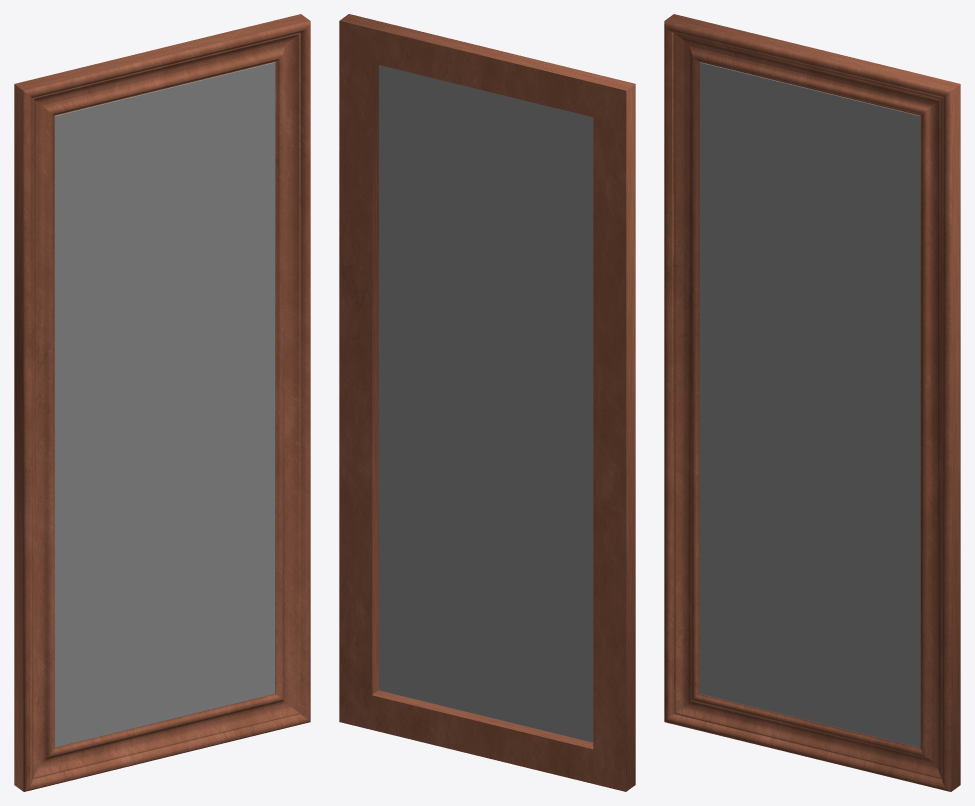
Rendered from Mirror 9.FBX.
3 renders of one model, left to right at view 1: azimuth 30°, elevation 25°; view 2: azimuth 150°, elevation 25°; view 3: azimuth 330°, elevation 25°, orthographic.
Visible parts, largest first — view 1: mirror 9; view 2: mirror 9; view 3: mirror 9.
Part boxes in pixels (x1,y1,x2,y2): mirror 9: (14, 14, 310, 791); mirror 9: (339, 14, 635, 791); mirror 9: (664, 14, 960, 791).
Bounding box in the file's own units: 76.02 × 177 × 5.02.
2 materials, 1 textured.
